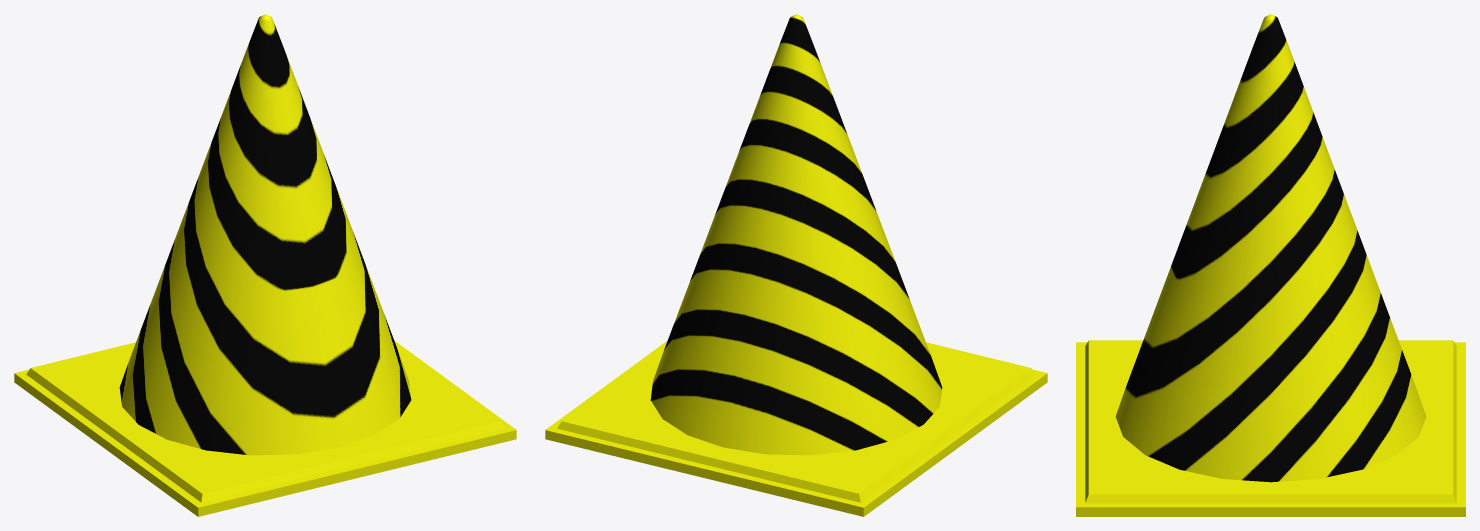
3 renders of one model, left to right at view 1: azimuth 30°, elevation 25°; view 2: azimuth 150°, elevation 25°; view 3: azimuth 270°, elevation 25°, orthographic. The views are drawn at different scales.
Visible parts, largest first — view 1: pCube5; view 2: pCube5; view 3: pCube5.
Part boxes in pixels (box(x1,y1,x2,y2)): pCube5: box(14, 14, 516, 516); pCube5: box(545, 14, 1047, 516); pCube5: box(1076, 14, 1465, 516).
Size of the model in its own units: 2.55 by 3.03 by 2.55.
1 material, 1 textured.
